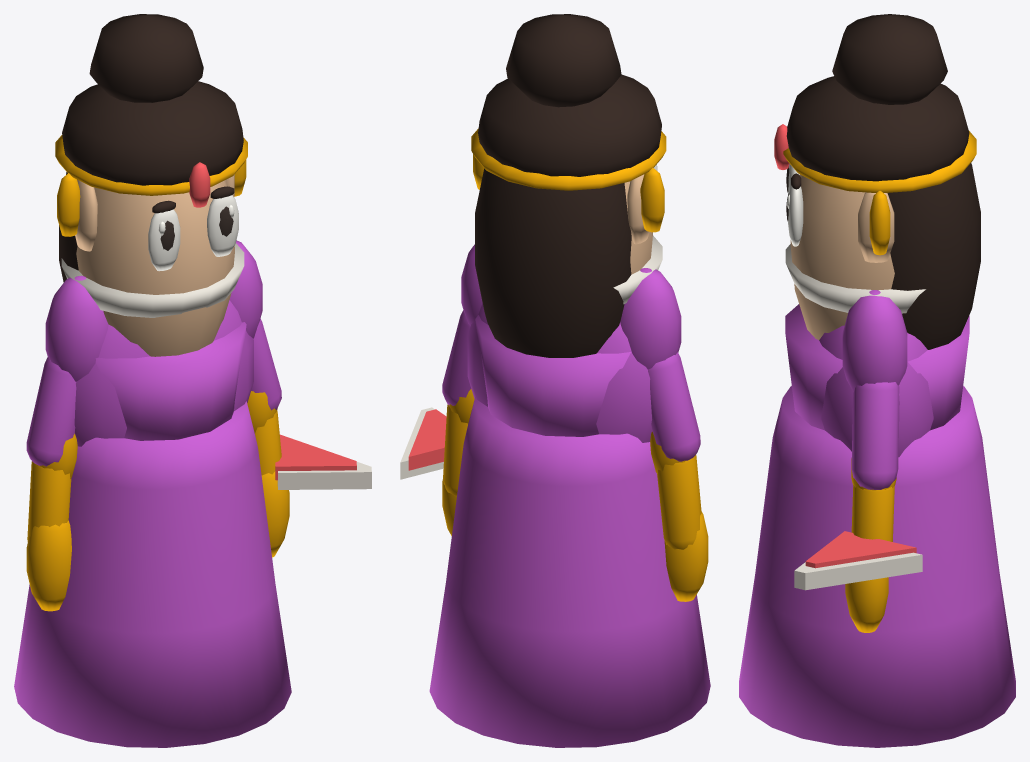
Rendered from char_madame.glb.
The picture shows the model from 3 angles, left to right: view 1: azimuth 30°, elevation 25°; view 2: azimuth 150°, elevation 25°; view 3: azimuth 270°, elevation 25°; orthographic projection.
Parts seen in each view (by area): view 1: char_madame; view 2: char_madame; view 3: char_madame.
Part boxes in pixels (x1,y1,x2,y2): char_madame: [14, 14, 371, 747]; char_madame: [400, 14, 710, 747]; char_madame: [739, 14, 1015, 747].
Bounding box in the file's own units: 0.5747 × 1.18 × 0.4395.
